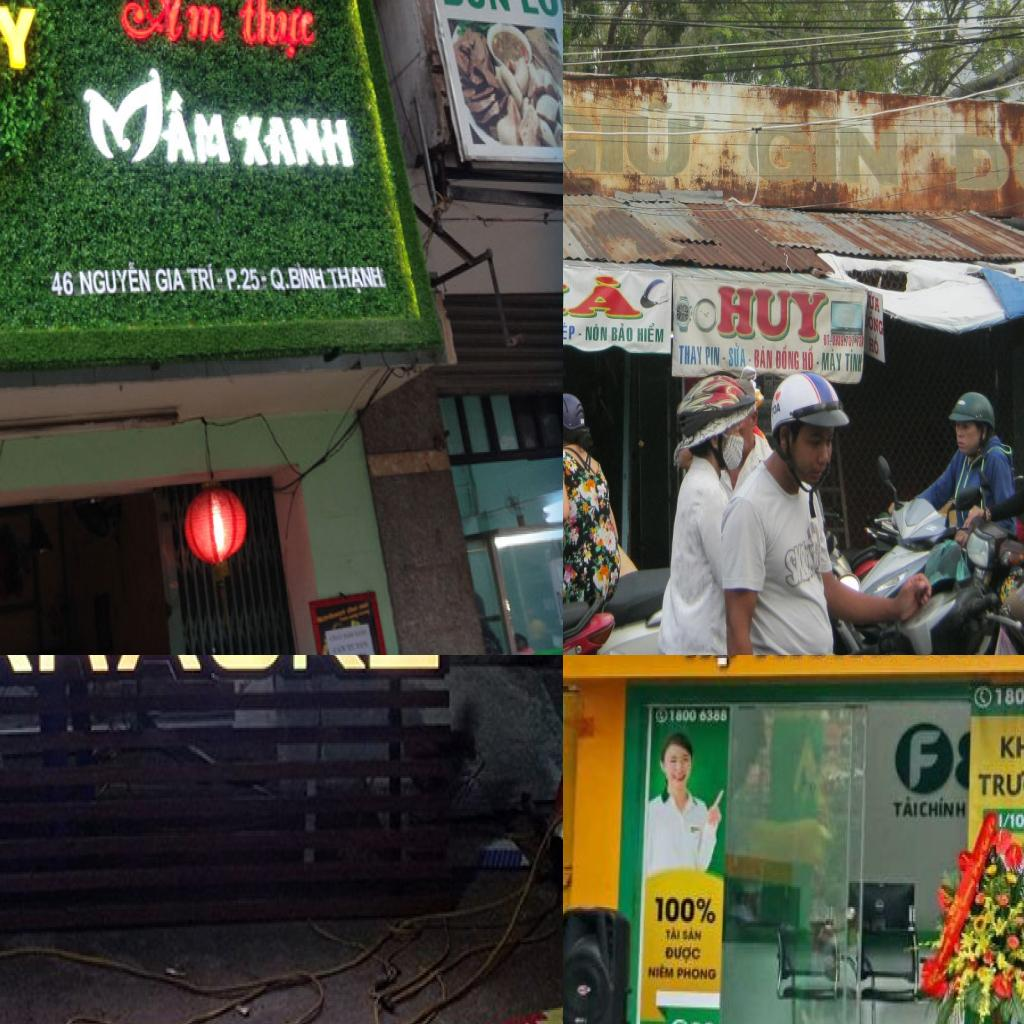text: (744, 101, 906, 198), (81, 67, 231, 164), (563, 97, 711, 185), (234, 111, 363, 170), (714, 282, 832, 345), (948, 112, 1024, 203), (239, 0, 320, 62), (118, 0, 224, 45), (563, 269, 649, 322), (74, 264, 155, 297), (654, 891, 720, 927), (908, 728, 944, 793), (329, 262, 385, 294), (976, 766, 1024, 802), (284, 262, 326, 296), (919, 794, 968, 820), (186, 260, 218, 298), (435, 0, 513, 15), (512, 0, 563, 22), (668, 708, 730, 726), (682, 655, 738, 674), (223, 264, 261, 291), (152, 264, 186, 294), (663, 946, 702, 968), (993, 684, 1024, 710), (891, 794, 919, 822), (676, 966, 719, 984), (49, 270, 75, 299), (774, 344, 800, 372), (637, 322, 666, 346), (1000, 734, 1024, 762), (268, 267, 290, 296), (647, 960, 675, 982), (678, 342, 703, 366), (549, 581, 563, 623), (996, 813, 1024, 833), (583, 322, 608, 344), (821, 348, 843, 373), (832, 332, 866, 348), (754, 343, 773, 371), (610, 322, 634, 344), (727, 343, 748, 368), (682, 925, 705, 945), (845, 350, 863, 374), (801, 344, 815, 372), (705, 344, 721, 368), (516, 1016, 559, 1024), (665, 923, 682, 943), (868, 334, 881, 358), (563, 320, 576, 341), (822, 333, 832, 347), (578, 331, 584, 338), (747, 357, 753, 363), (722, 356, 726, 362), (816, 360, 820, 366)
